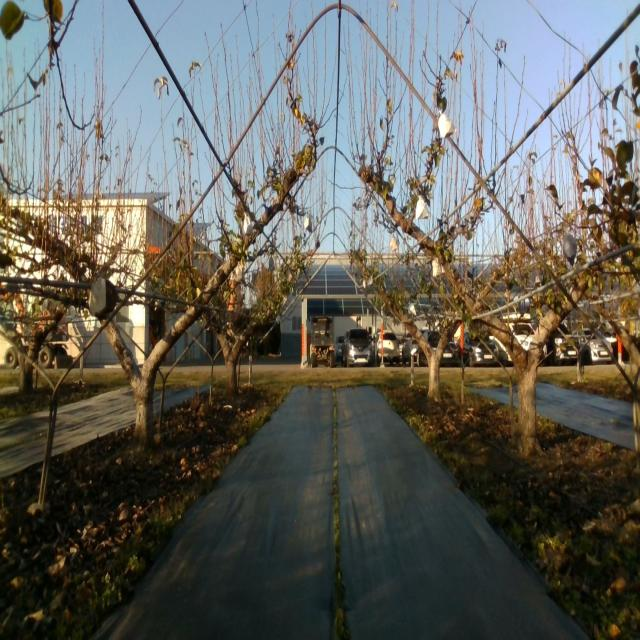pearbags: (562, 230, 577, 266), (438, 111, 456, 138), (415, 197, 430, 220), (432, 256, 445, 278)
